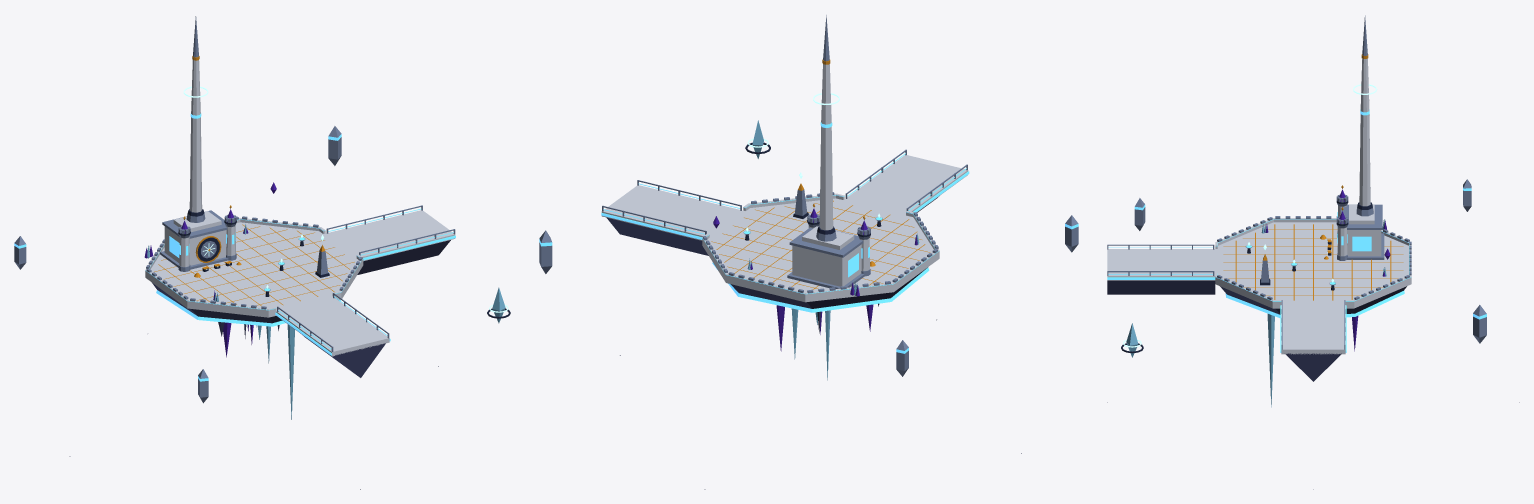
The model's file is chunk_vault_turn.fbx.
The picture shows the model from 3 angles, left to right: view 1: azimuth 30°, elevation 25°; view 2: azimuth 150°, elevation 25°; view 3: azimuth 270°, elevation 25°; orthographic projection. The views are drawn at different scales.
Visible parts, largest first — view 1: chunk_vault_turn; view 2: chunk_vault_turn; view 3: chunk_vault_turn.
Part boxes in pixels (x1,y1,x2,y2): chunk_vault_turn: [14, 16, 510, 489]; chunk_vault_turn: [539, 15, 1078, 489]; chunk_vault_turn: [1107, 15, 1519, 489].
Size of the model in its own units: 256 by 256 by 256.
